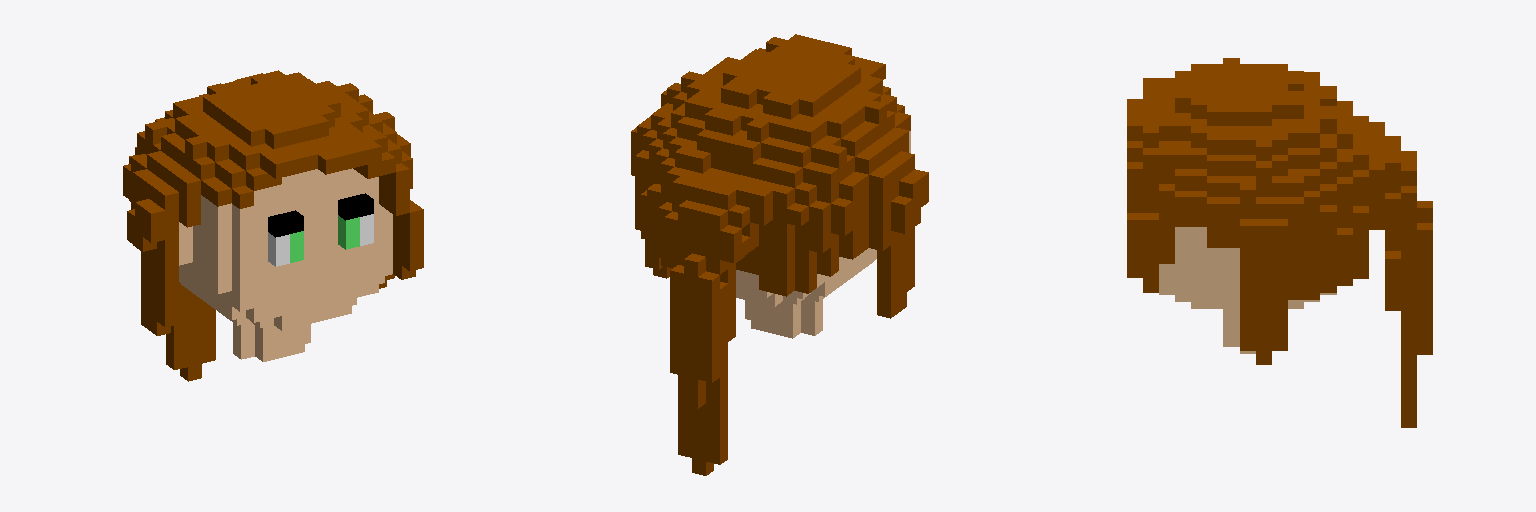
3 views of the same model, side by side, from view 1: azimuth 30°, elevation 25°; view 2: azimuth 150°, elevation 25°; view 3: azimuth 270°, elevation 25° (orthographic).
Parts seen in each view (by area): view 1: object 1; view 2: object 1; view 3: object 1.
Boxes of the visible parts, x1=… form: object 1: x1=123, y1=70, x2=423, y2=381; object 1: x1=631, y1=34, x2=928, y2=475; object 1: x1=1127, y1=58, x2=1432, y2=427.
Bounding box in the file's own units: 1.9 × 2.3 × 1.9.
1 materials, 1 textured.